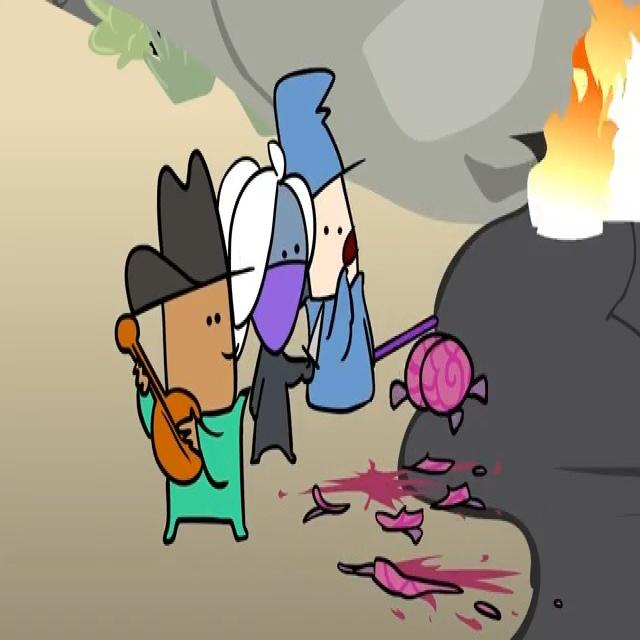Banjovi: (114, 147, 252, 547)
Josh: (273, 69, 375, 416)
miss Demeanor: (217, 140, 317, 466)
